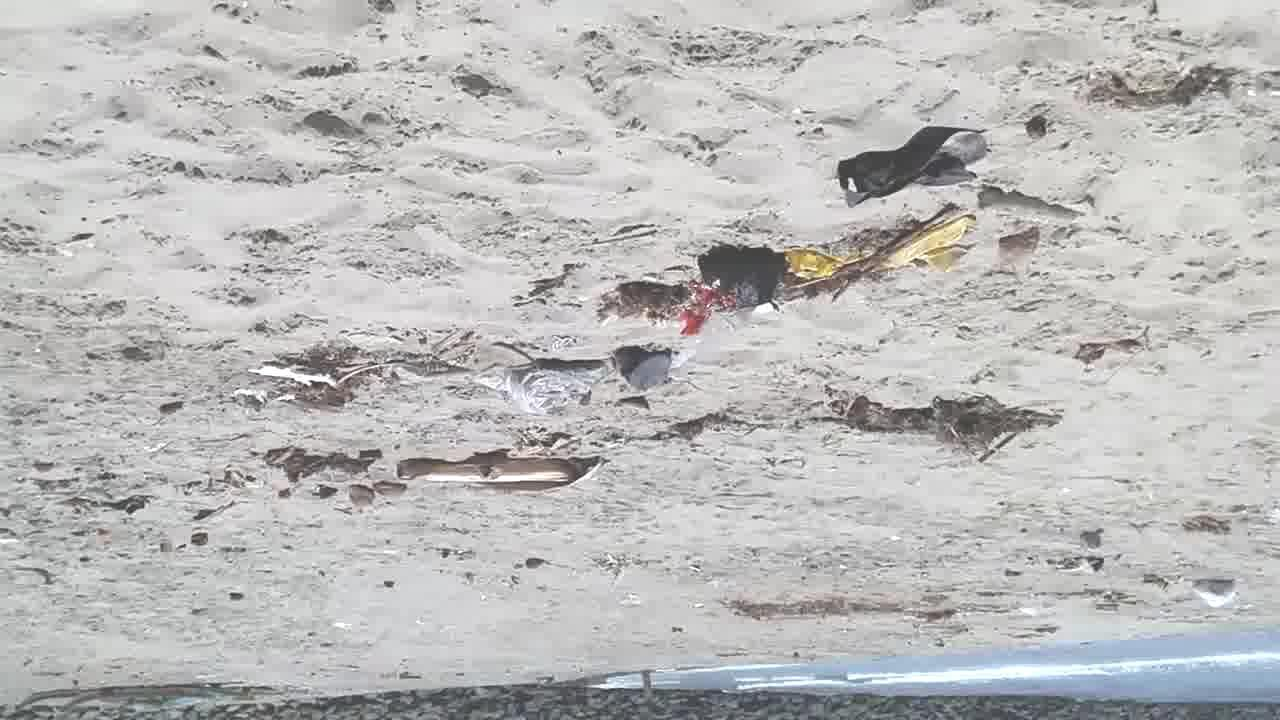obj: (788, 204, 974, 304), (838, 388, 1062, 462), (836, 122, 994, 208), (394, 434, 615, 492), (786, 218, 971, 273), (470, 356, 610, 415), (1078, 64, 1234, 113), (248, 354, 438, 386), (696, 246, 785, 314), (726, 600, 952, 626), (264, 446, 383, 490), (596, 284, 696, 328), (979, 187, 1081, 230), (679, 282, 736, 336), (610, 346, 676, 391), (586, 552, 653, 594), (232, 378, 300, 408), (68, 494, 160, 516), (1070, 340, 1146, 366), (994, 226, 1042, 262), (1188, 578, 1242, 607), (1026, 557, 1106, 576), (348, 481, 408, 506), (1180, 516, 1238, 537), (1024, 116, 1048, 144), (524, 554, 566, 570), (161, 402, 183, 417), (144, 442, 171, 454), (189, 532, 209, 547), (439, 623, 458, 635), (669, 624, 687, 634), (1016, 606, 1034, 616), (334, 622, 352, 631), (476, 592, 488, 604), (384, 578, 394, 591), (1060, 486, 1070, 498), (413, 618, 425, 628), (838, 560, 849, 570), (231, 594, 243, 603), (887, 535, 898, 541)
sand/background: (4, 625, 1279, 719)
